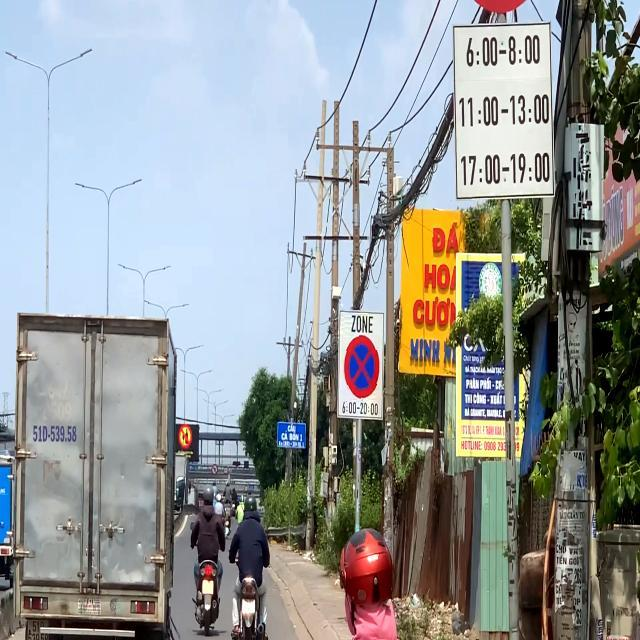P-130: (342, 334, 380, 402)
